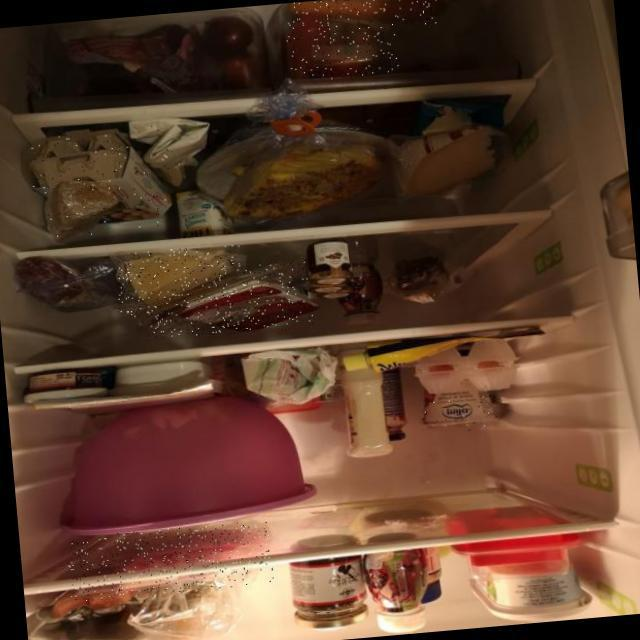Carne cerdo: (64, 518, 273, 601), (140, 259, 313, 338)
Huevos: (27, 122, 176, 240), (408, 336, 526, 402)
Queso: (113, 242, 244, 317), (32, 174, 122, 238)
Yogur: (418, 347, 505, 434)
